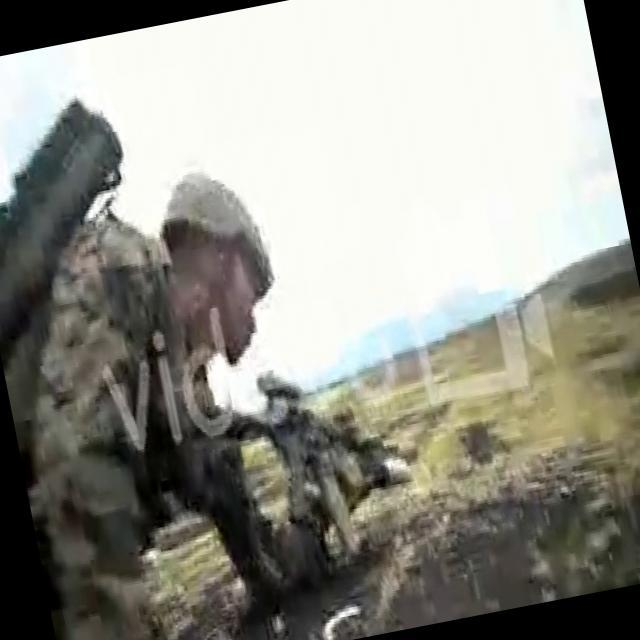rocket: (0, 95, 153, 360)
